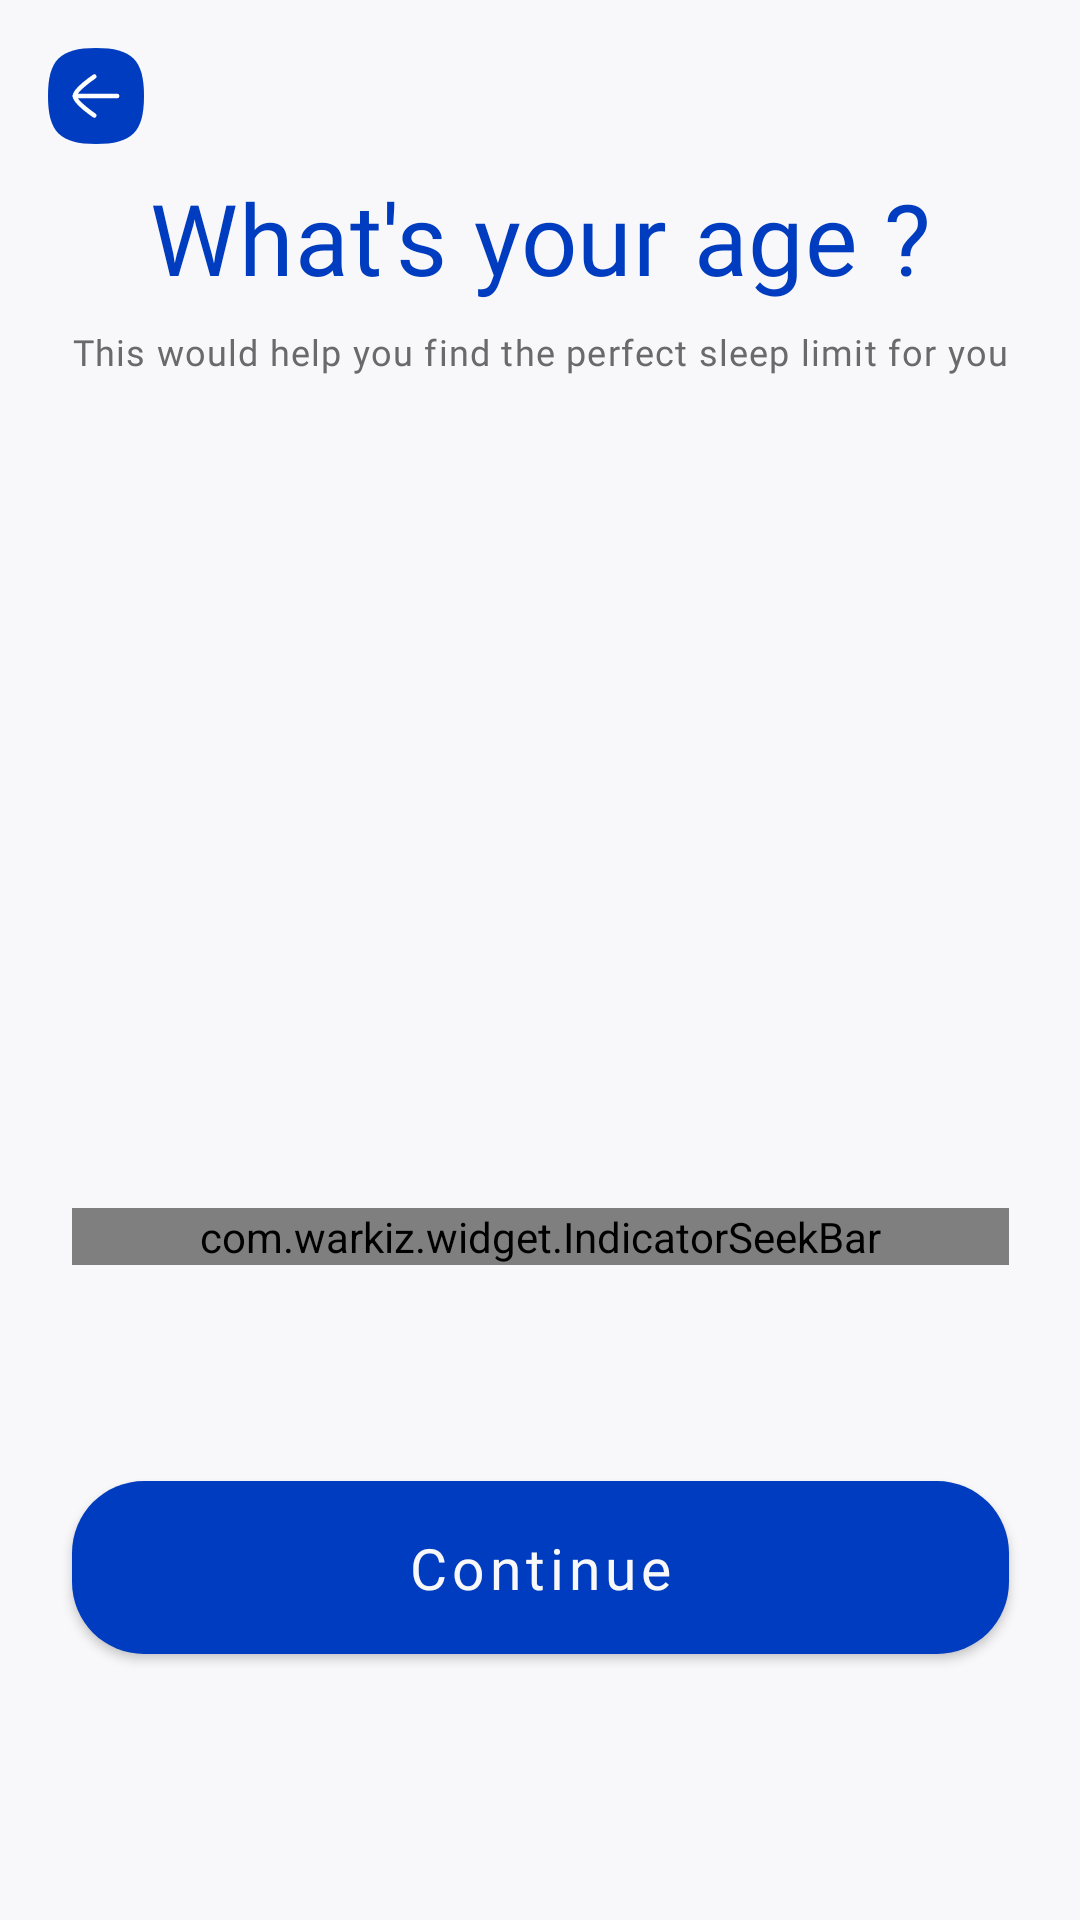

Screen size 1080px×1920px. Icon name, then its box in pixels as bbox(x1, y1, x2, y2):
back: bbox(48, 48, 144, 144)
